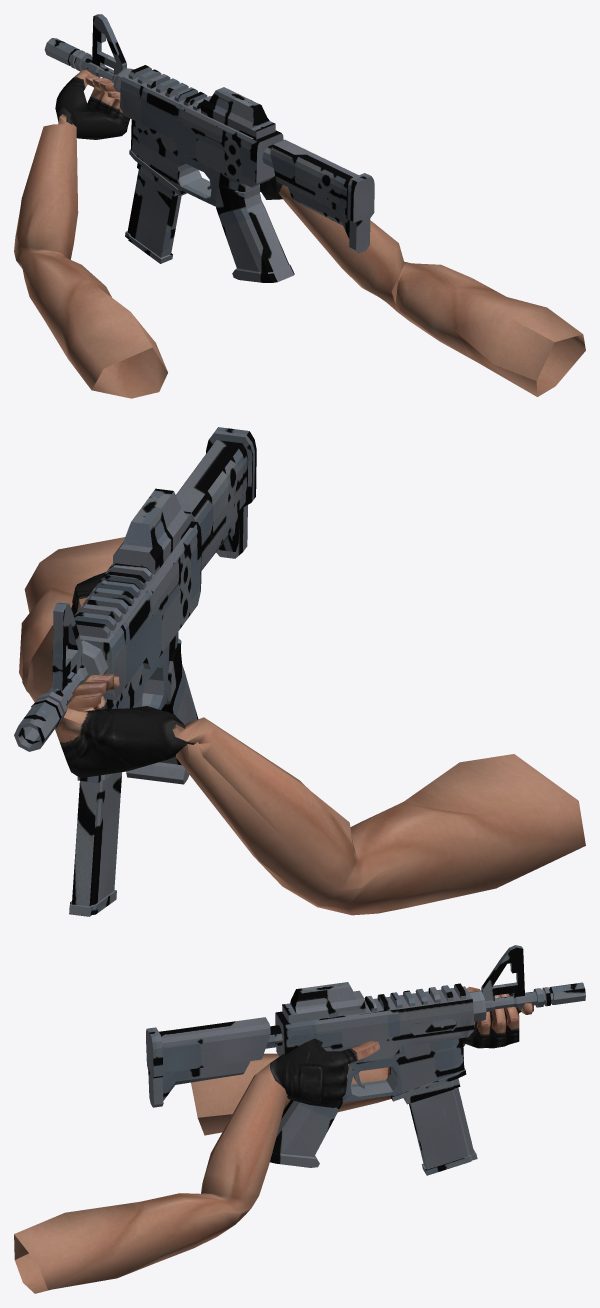
File: gun_m4.glb
3 renders of one model, top to bottom at view 1: azimuth 30°, elevation 25°; view 2: azimuth 150°, elevation 25°; view 3: azimuth 270°, elevation 25°, orthographic. The views are drawn at different scales.
Visible parts, largest first — view 1: body_ARMS, body_QUATP, mag_QUATP; view 2: body_ARMS, body_QUATP, mag_QUATP; view 3: body_ARMS, body_QUATP, mag_QUATP.
Boxes of the visible parts, x1,y1,x2,y2 form: body_ARMS: (14,70,585,398); body_QUATP: (44,14,374,282); mag_QUATP: (125,163,181,263); body_ARMS: (19,537,585,915); body_QUATP: (14,427,256,784); mag_QUATP: (69,772,121,916); body_ARMS: (14,986,533,1293); body_QUATP: (146,945,585,1167); mag_QUATP: (403,1078,477,1175).
Size of the model in its own units: 77.56 by 44.06 by 93.32.
2 materials, 2 textured.
